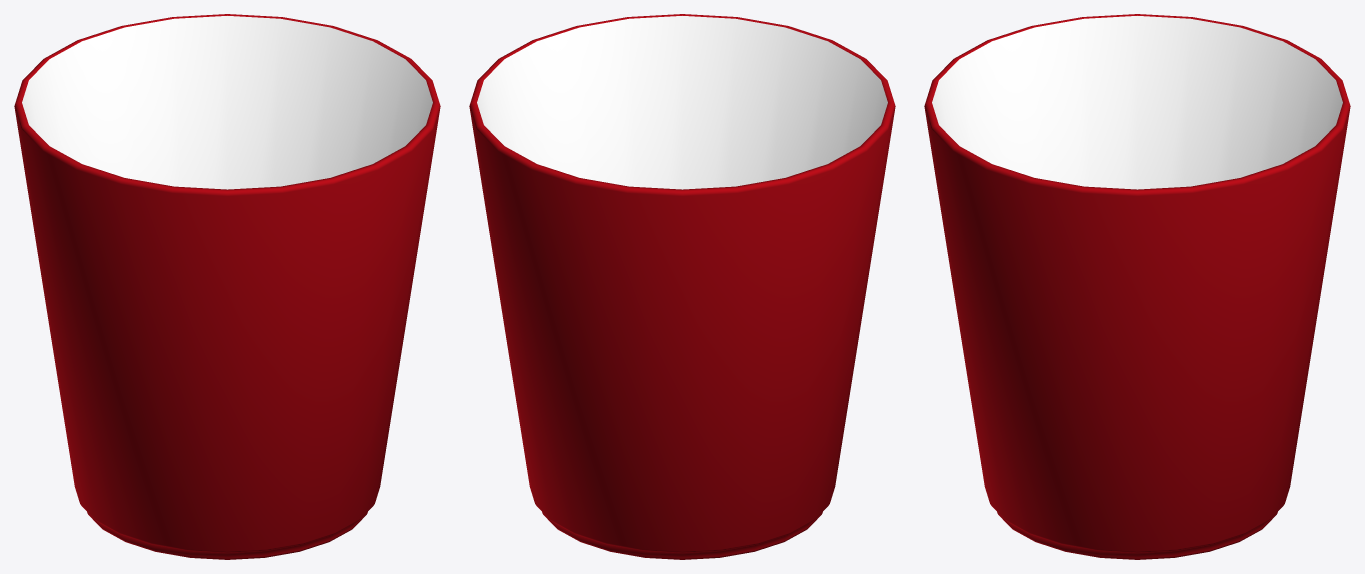
File: cup.glb
The picture shows the model from 3 angles, left to right: view 1: azimuth 30°, elevation 25°; view 2: azimuth 150°, elevation 25°; view 3: azimuth 270°, elevation 25°; orthographic projection.
Visible parts, largest first — view 1: cup; view 2: cup; view 3: cup.
Part boxes in pixels (<box>): cup: <box>14,14,440,559</box>; cup: <box>469,14,895,559</box>; cup: <box>924,14,1350,559</box>.
Bounding box in the file's own units: 1.99 × 2.05 × 1.99.
Materials: 1 (1 with a texture image).
